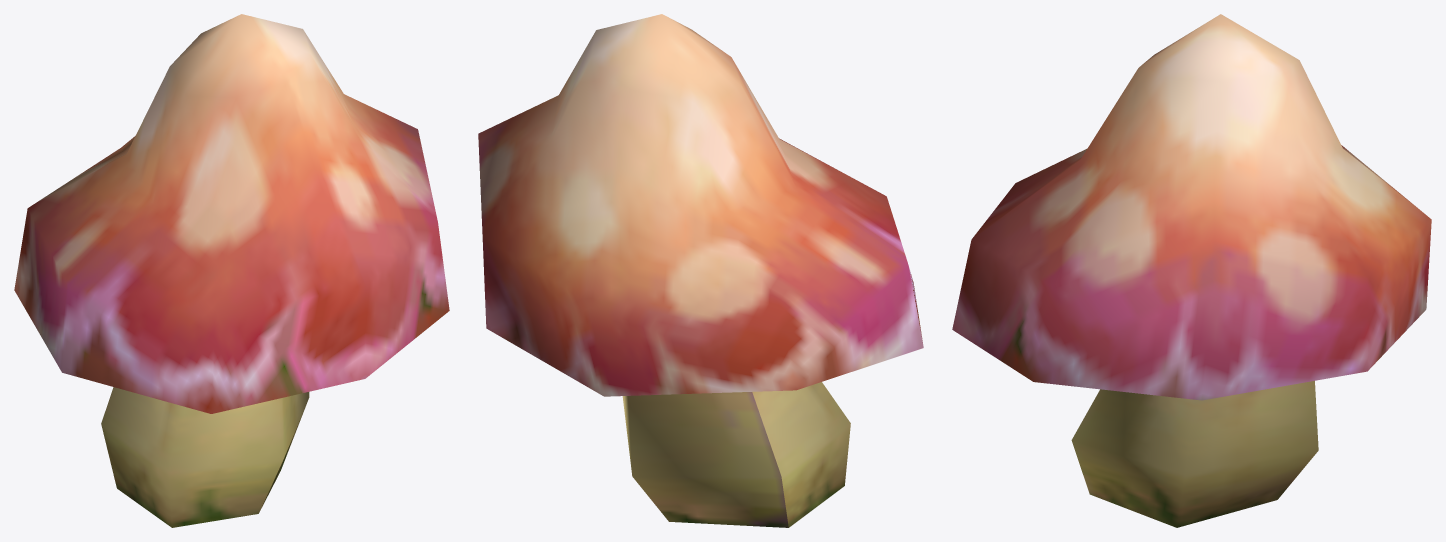
The model's file is huacao_jiaowai_X92.FBX.
The picture shows the model from 3 angles, left to right: view 1: azimuth 30°, elevation 25°; view 2: azimuth 150°, elevation 25°; view 3: azimuth 270°, elevation 25°; orthographic projection. The views are drawn at different scales.
Parts seen in each view (by area): view 1: huacao_jiaowai_X92; view 2: huacao_jiaowai_X92; view 3: huacao_jiaowai_X92.
Part boxes in pixels (left/top/right/bottom): huacao_jiaowai_X92: left=14, top=14, right=449, bottom=527; huacao_jiaowai_X92: left=478, top=14, right=923, bottom=527; huacao_jiaowai_X92: left=952, top=14, right=1431, bottom=527.
Size of the model in its own units: 685 by 760 by 655.
